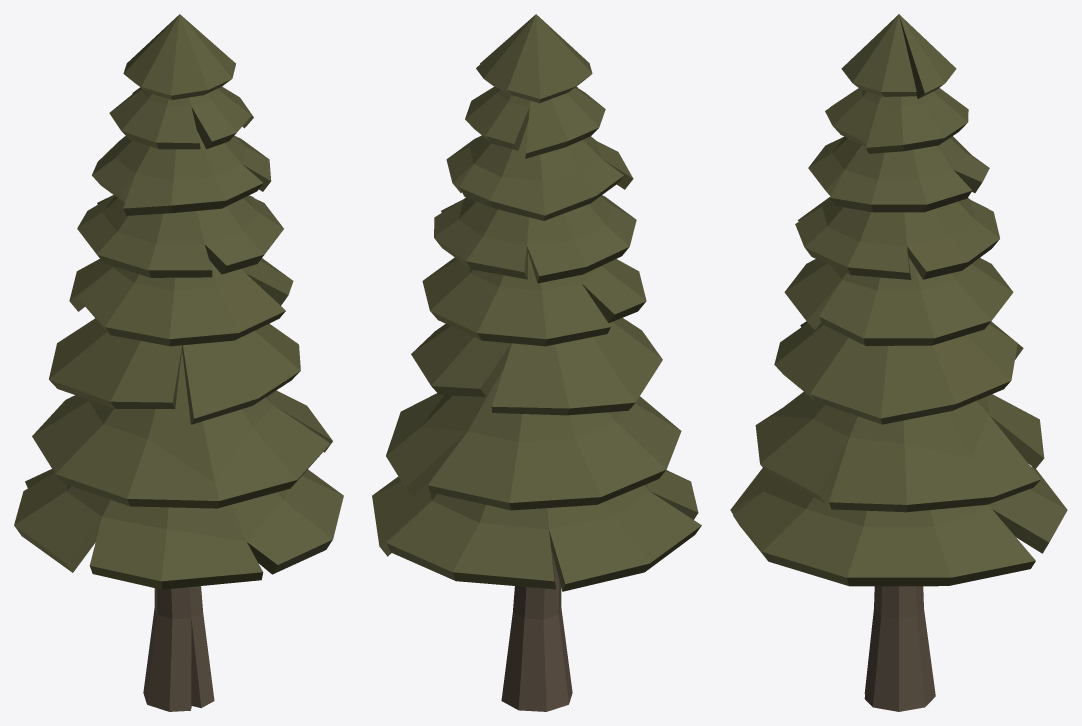
Rendered from SM_Envr_Nature_Tree_Pine_Large_02.fbx.
The picture shows the model from 3 angles, left to right: view 1: azimuth 30°, elevation 25°; view 2: azimuth 150°, elevation 25°; view 3: azimuth 270°, elevation 25°; orthographic projection.
Parts seen in each view (by area): view 1: SM_Envr_Nature_Tree_Pine_Large_02; view 2: SM_Envr_Nature_Tree_Pine_Large_02; view 3: SM_Envr_Nature_Tree_Pine_Large_02.
Boxes of the visible parts, left/top/right/bottom form: SM_Envr_Nature_Tree_Pine_Large_02: left=14, top=14, right=343, bottom=711; SM_Envr_Nature_Tree_Pine_Large_02: left=372, top=14, right=701, bottom=711; SM_Envr_Nature_Tree_Pine_Large_02: left=730, top=14, right=1067, bottom=711.
Size of the model in its own units: 497 by 1167 by 523.
